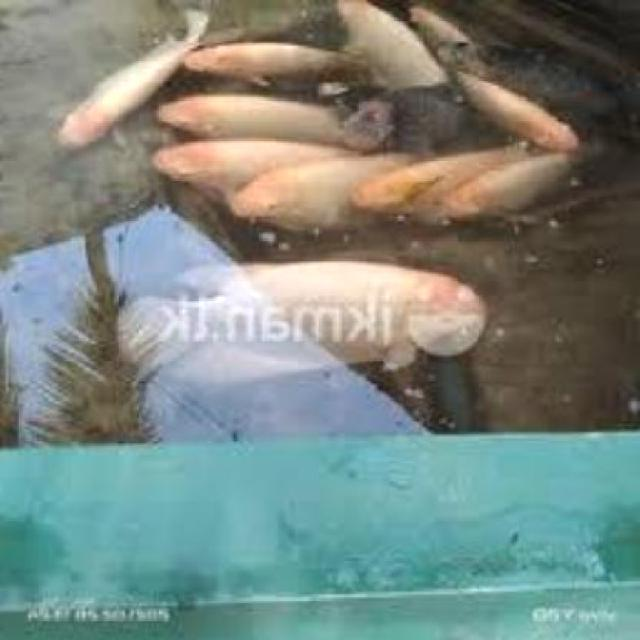gurame: (150, 256, 478, 381), (66, 5, 172, 146), (238, 158, 396, 242)
